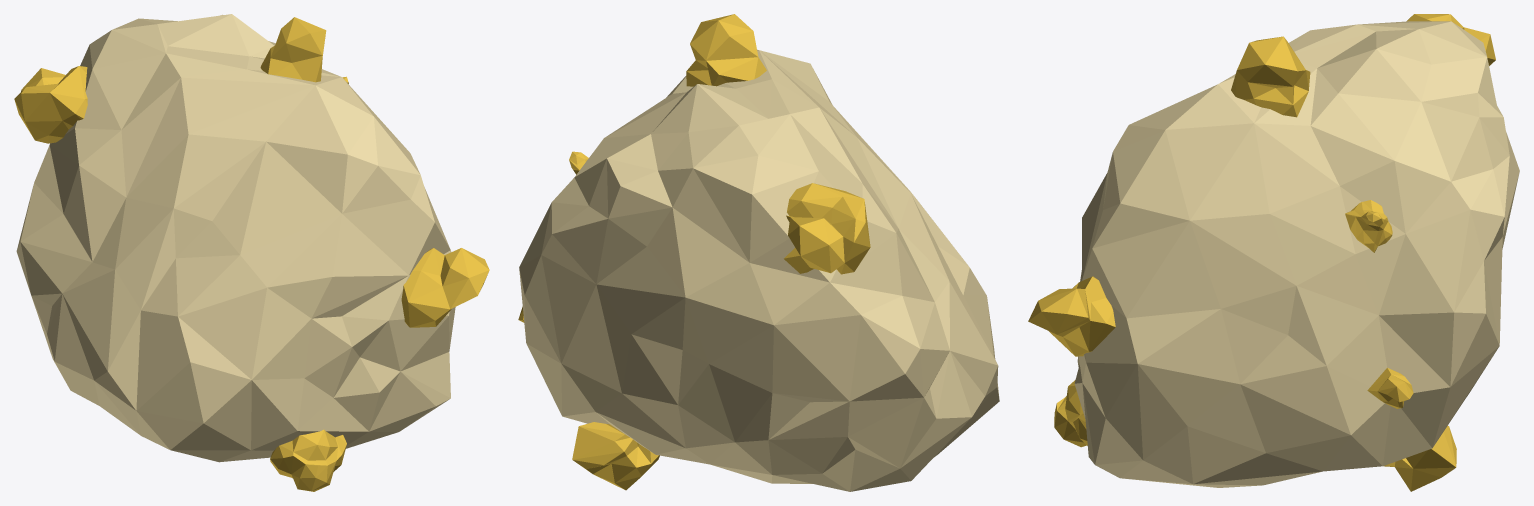
Rendered from MetalOre (64).fbx.
3 renders of one model, left to right at view 1: azimuth 30°, elevation 25°; view 2: azimuth 150°, elevation 25°; view 3: azimuth 270°, elevation 25°, orthographic. The views are drawn at different scales.
Parts seen in each view (by area): view 1: Asteroid355; view 2: Asteroid355; view 3: Asteroid355.
Boxes of the visible parts, x1,y1,x2,y2 form: Asteroid355: (14, 14, 489, 491); Asteroid355: (518, 14, 999, 491); Asteroid355: (1028, 14, 1519, 491).
Bounding box in the file's own units: 604 × 633 × 627.
